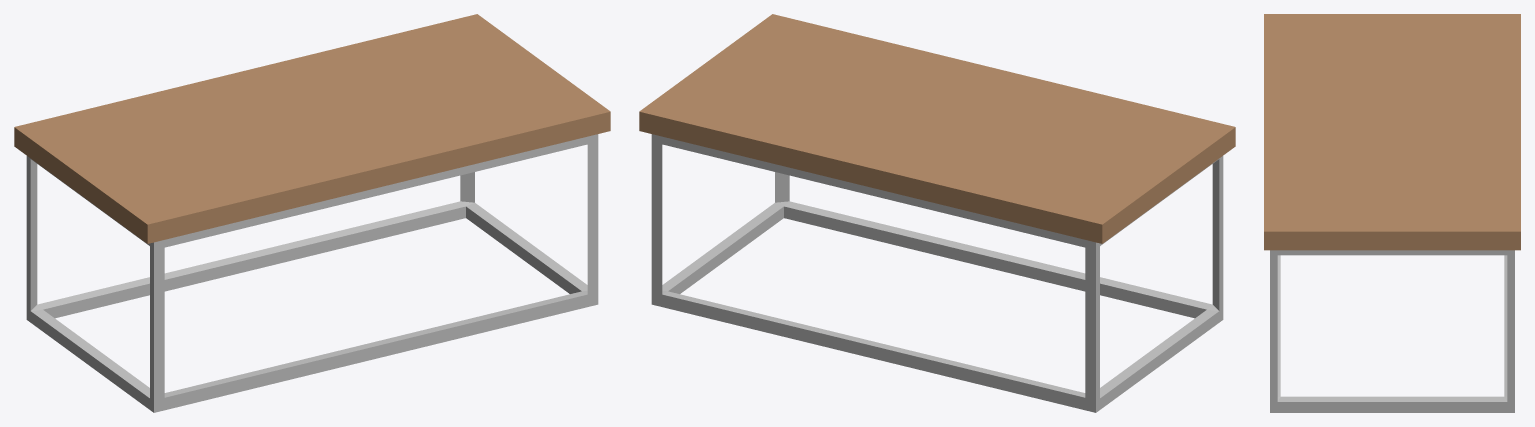
File: table1.FBX
3 views of the same model, side by side, from view 1: azimuth 30°, elevation 25°; view 2: azimuth 150°, elevation 25°; view 3: azimuth 270°, elevation 25° (orthographic). The views are drawn at different scales.
Visible parts, largest first — view 1: table1; view 2: table1; view 3: table1.
Part boxes in pixels (<box>): table1: <box>14,14,610,412</box>; table1: <box>639,14,1235,412</box>; table1: <box>1264,14,1520,412</box>.
Bounding box in the file's own units: 111 × 44.08 × 55.27.
